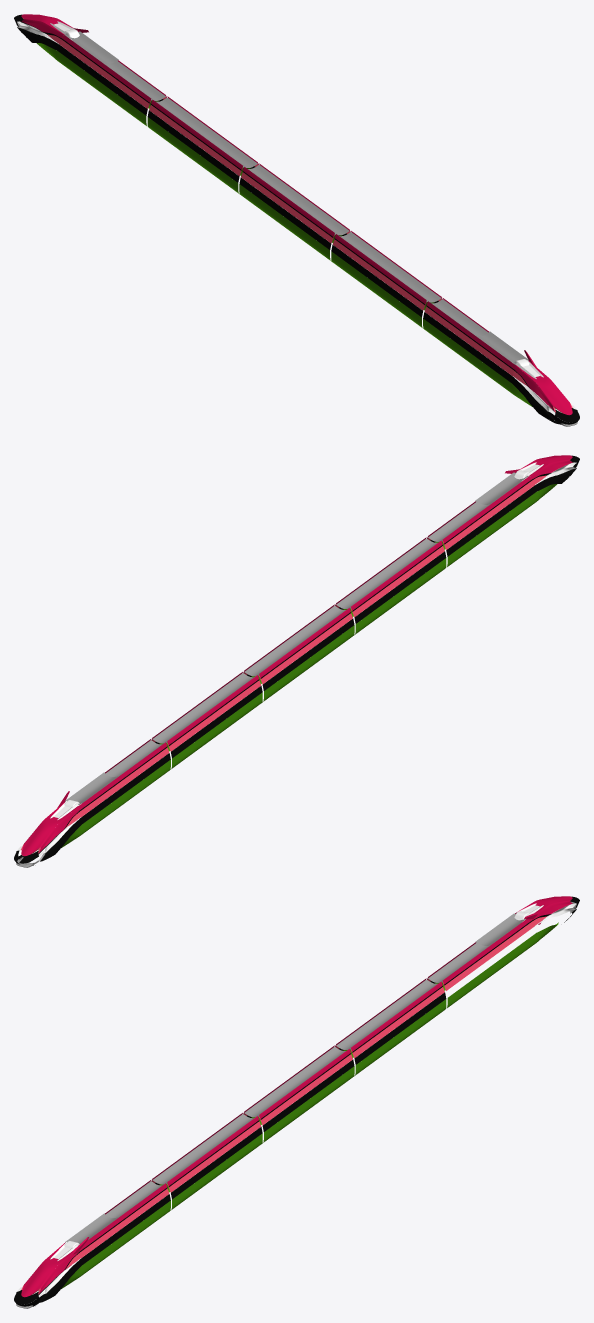
File: bullet.glb
3 renders of one model, top to bottom at view 1: azimuth 30°, elevation 25°; view 2: azimuth 150°, elevation 25°; view 3: azimuth 330°, elevation 25°, orthographic.
Parts seen in each view (by area): view 1: extrudedSurface78, extrudedSurface45, extrudedSurface79, extrudedSurface104, extrudedSurface18, extrudedSurface94, nurbsToPoly127, nurbsToPoly47, nurbsToPoly50, nurbsToPoly51, nurbsToPoly52, extrudedSurface105 (+11 smaller); view 2: extrudedSurface78, extrudedSurface45, extrudedSurface79, extrudedSurface18, extrudedSurface94, extrudedSurface104, nurbsToPoly47, nurbsToPoly127, nurbsToPoly52, nurbsToPoly51, nurbsToPoly50, extrudedSurface19 (+10 smaller); view 3: extrudedSurface78, extrudedSurface79, extrudedSurface45, extrudedSurface109, extrudedSurface73, extrudedSurface99, nurbsToPoly132, nurbsToPoly145, nurbsToPoly50, nurbsToPoly51, nurbsToPoly52, nurbsToPoly79 (+9 smaller).
Part boxes in pixels (left/top/right/bottom): extrudedSurface78: left=248, top=166, right=345, bottom=235; extrudedSurface45: left=340, top=233, right=437, bottom=302; extrudedSurface79: left=156, top=99, right=253, bottom=167; extrudedSurface104: left=147, top=117, right=238, bottom=193; extrudedSurface18: left=331, top=251, right=423, bottom=328; extrudedSurface94: left=239, top=184, right=331, bottom=261; nurbsToPoly127: left=56, top=51, right=147, bottom=126; nurbsToPoly47: left=423, top=318, right=513, bottom=394; nurbsToPoly50: left=339, top=232, right=441, bottom=302; nurbsToPoly51: left=248, top=165, right=349, bottom=235; nurbsToPoly52: left=156, top=97, right=257, bottom=167; extrudedSurface105: left=147, top=110, right=239, bottom=182; extrudedSurface78: left=246, top=608, right=345, bottom=676; extrudedSurface45: left=337, top=541, right=437, bottom=608; extrudedSurface79: left=154, top=675, right=253, bottom=743; extrudedSurface18: left=355, top=558, right=446, bottom=634; extrudedSurface94: left=262, top=625, right=354, bottom=702; extrudedSurface104: left=170, top=692, right=262, bottom=769; nurbsToPoly47: left=446, top=492, right=537, bottom=567; nurbsToPoly127: left=80, top=759, right=170, bottom=835; nurbsToPoly52: left=152, top=673, right=254, bottom=743; nurbsToPoly51: left=244, top=606, right=345, bottom=676; nurbsToPoly50: left=336, top=538, right=437, bottom=608; extrudedSurface19: left=354, top=551, right=446, bottom=623; extrudedSurface78: left=246, top=1049, right=345, bottom=1117; extrudedSurface79: left=337, top=982, right=437, bottom=1049; extrudedSurface45: left=154, top=1116, right=253, bottom=1184; extrudedSurface109: left=355, top=999, right=446, bottom=1075; extrudedSurface73: left=170, top=1133, right=262, bottom=1210; extrudedSurface99: left=262, top=1066, right=354, bottom=1143; nurbsToPoly132: left=446, top=933, right=537, bottom=1008; nurbsToPoly145: left=80, top=1200, right=170, bottom=1276; nurbsToPoly50: left=152, top=1114, right=254, bottom=1184; nurbsToPoly51: left=244, top=1047, right=345, bottom=1117; nurbsToPoly52: left=336, top=979, right=437, bottom=1049; nurbsToPoly79: left=354, top=992, right=446, bottom=1064.
Bounding box in the file's own units: 0.0968 × 0.1149 × 3.4.
